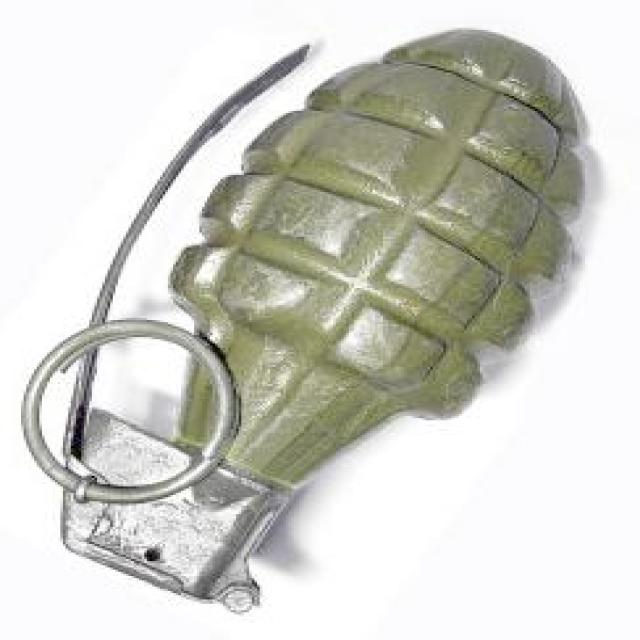grenade: (19, 26, 586, 615)
